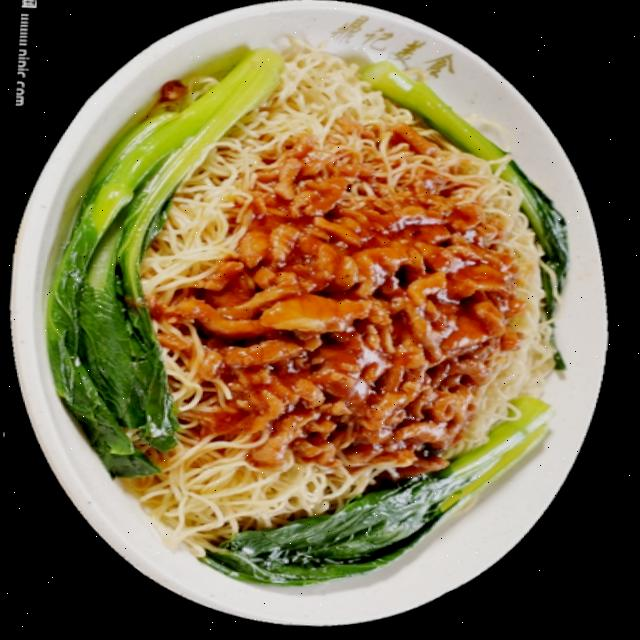面条主食: (0, 3, 635, 633)
